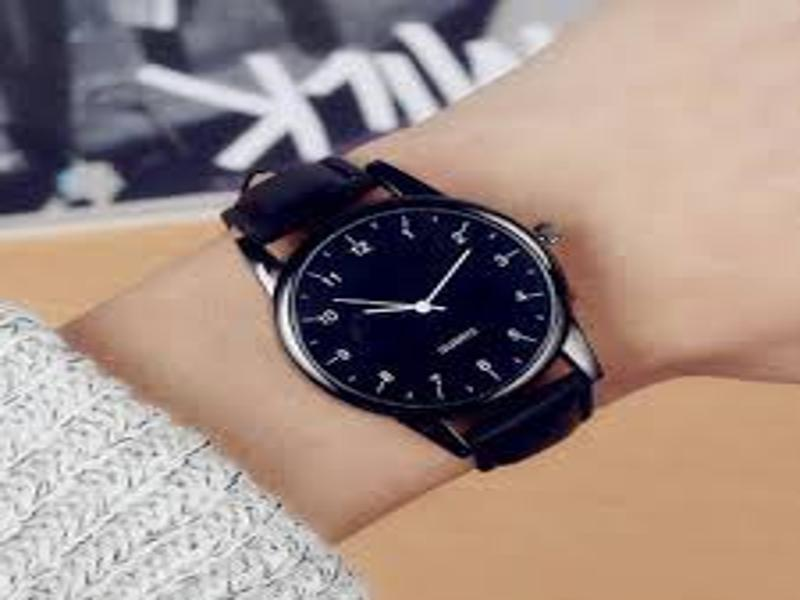watch: (220, 150, 603, 471)
